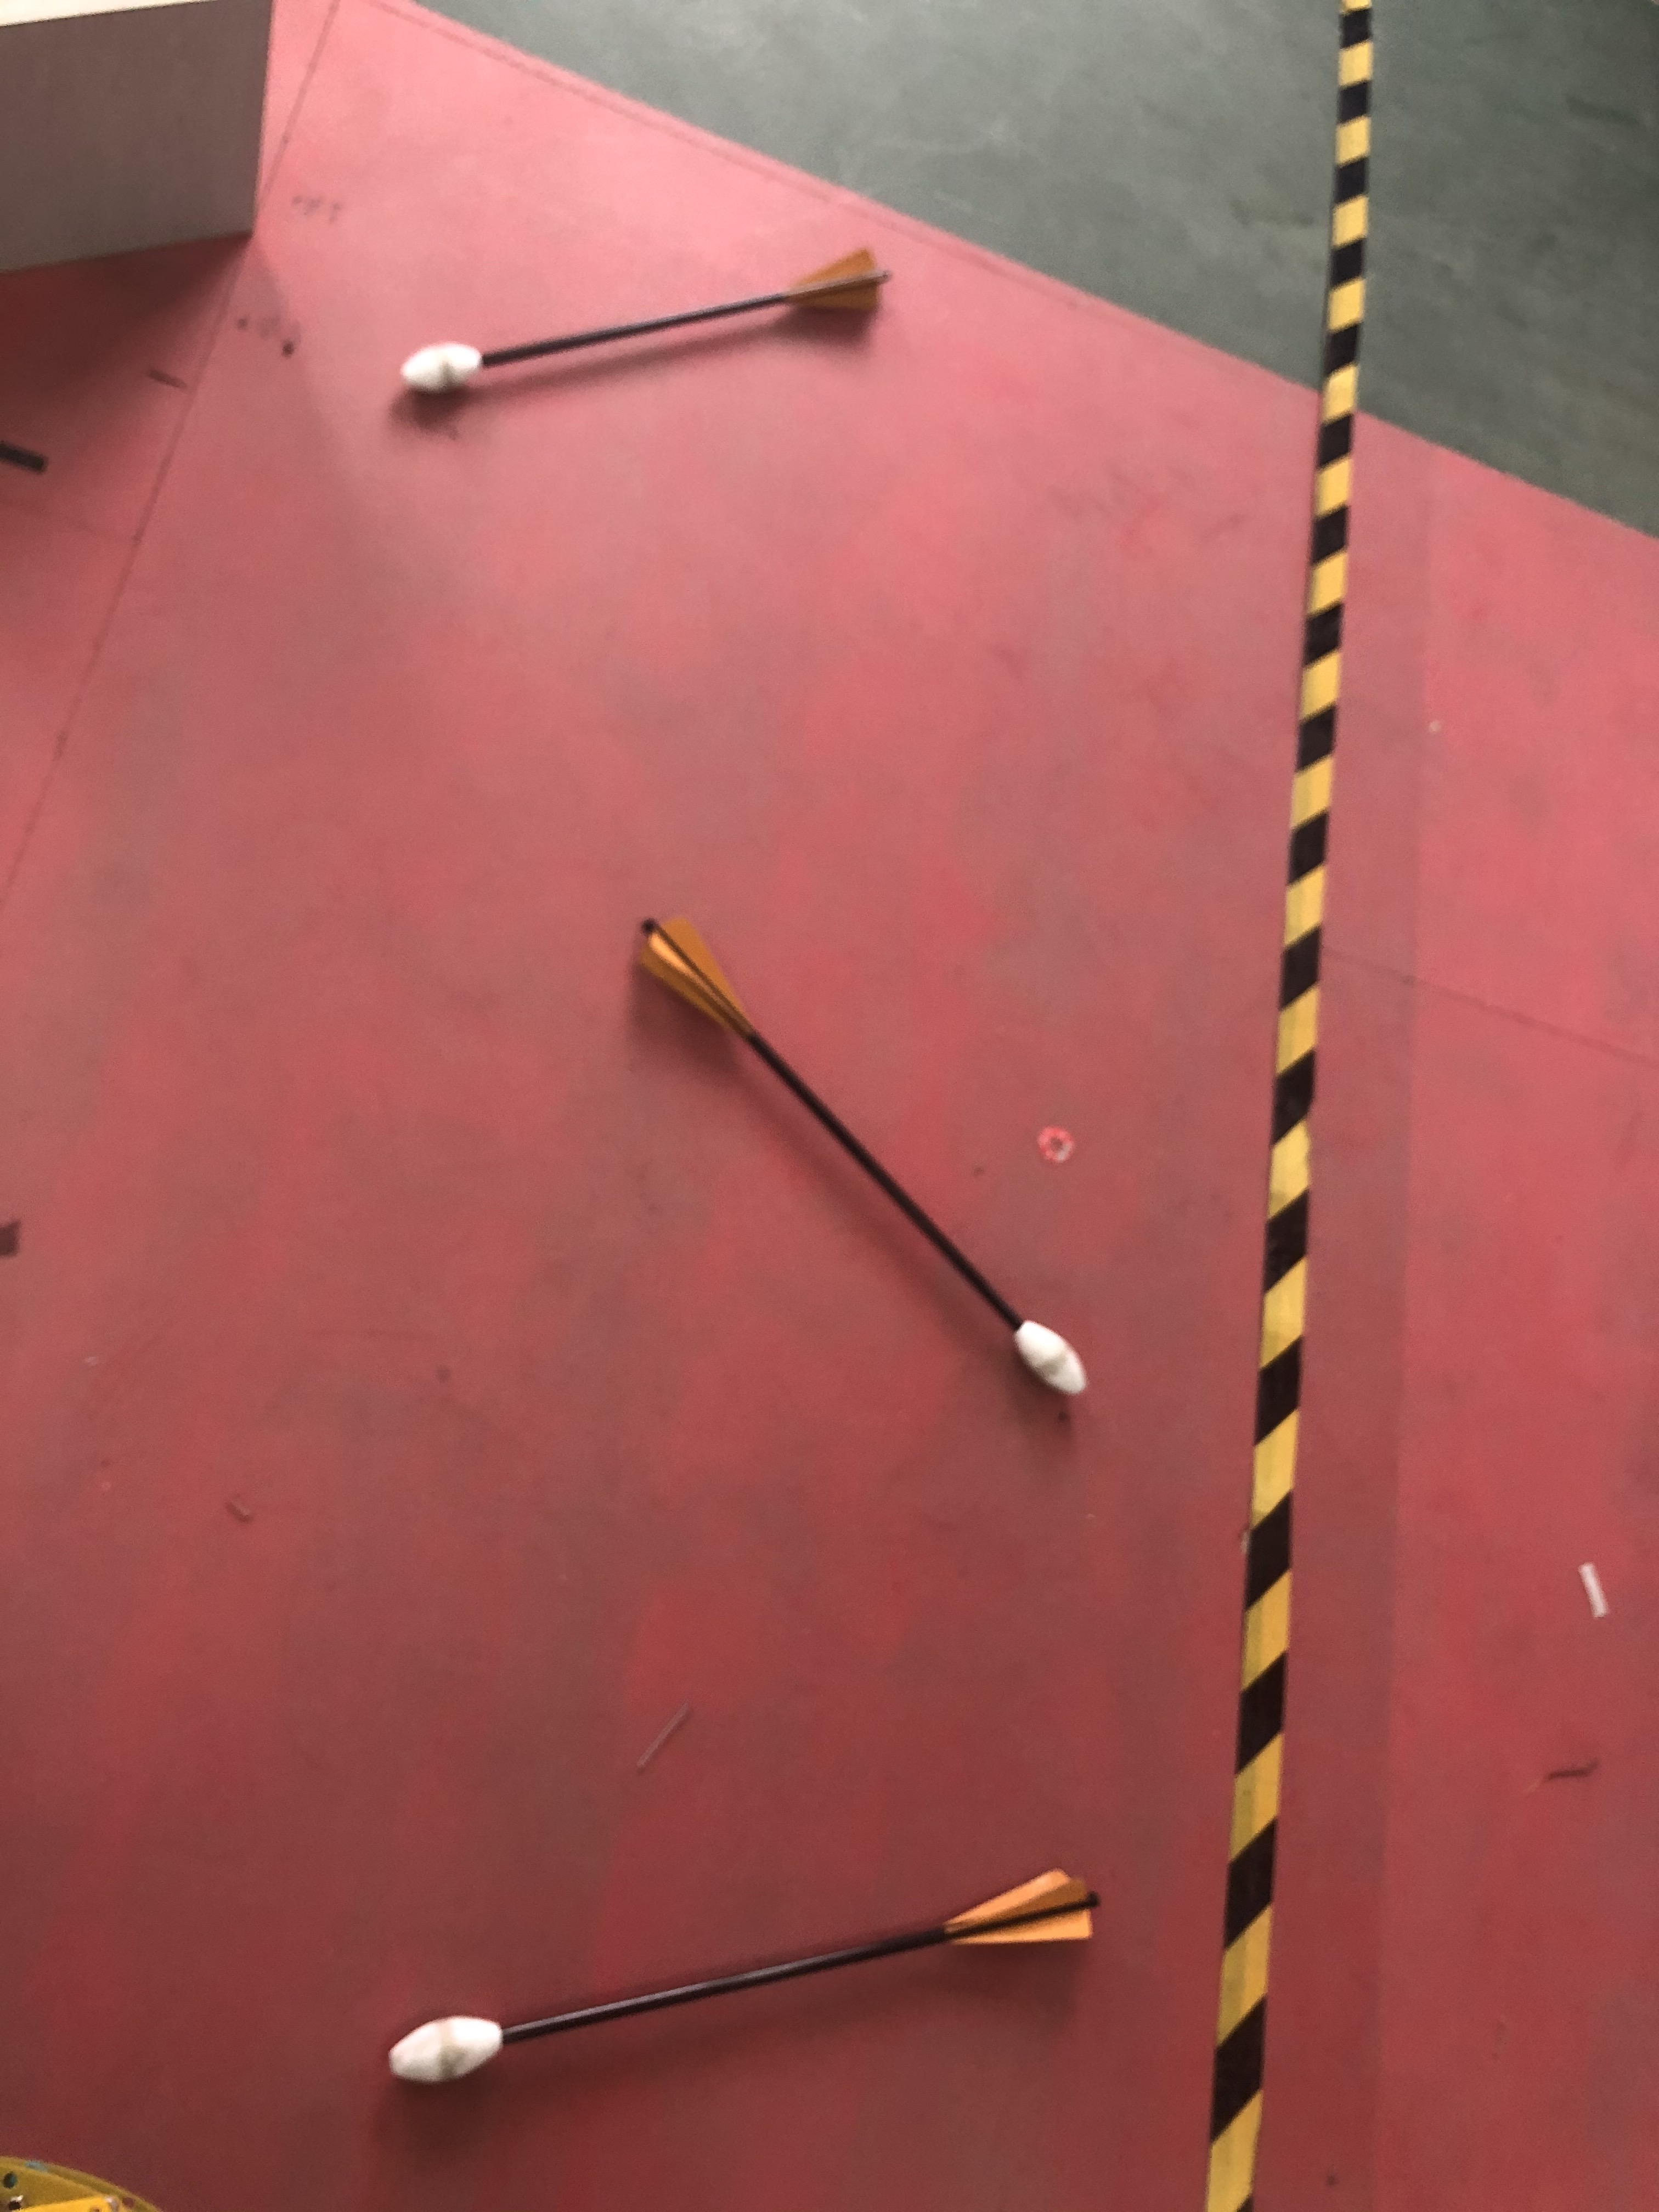arrow: (627, 904, 1096, 1399), (385, 1862, 1100, 2087), (390, 239, 889, 395)
arrowFront: (383, 2008, 512, 2083), (1011, 1315, 1091, 1402), (396, 341, 493, 395)
